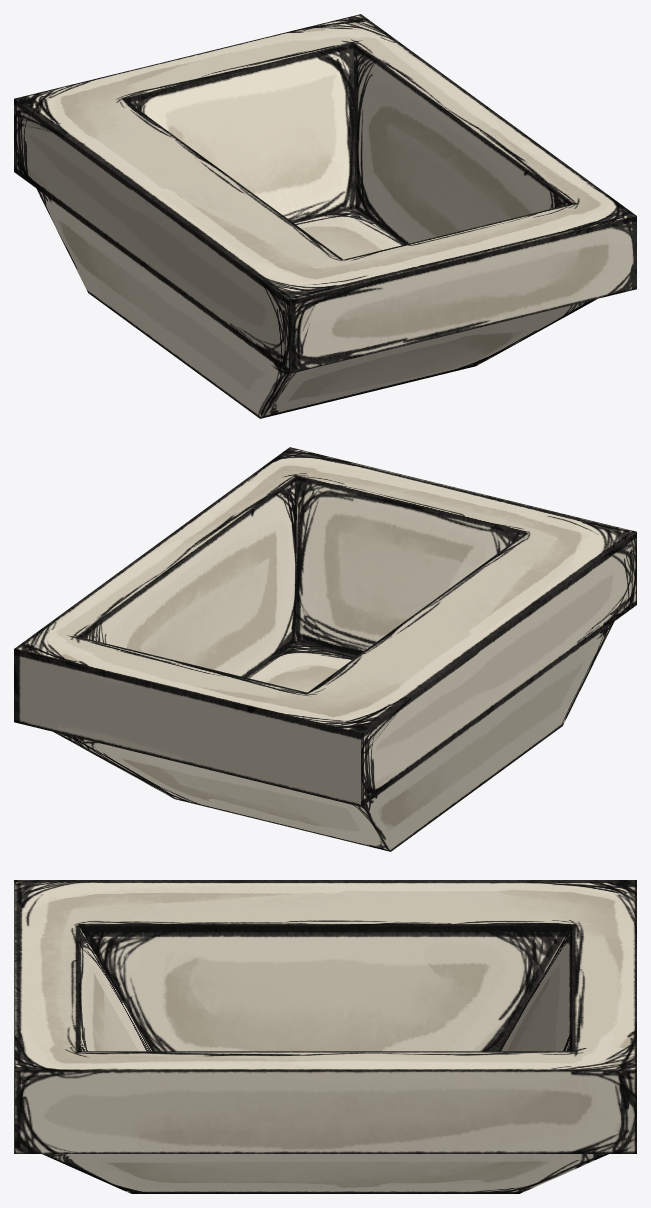
Rendered from sink_bathroom.fbx.
3 views of the same model, one above another, from view 1: azimuth 30°, elevation 25°; view 2: azimuth 150°, elevation 25°; view 3: azimuth 270°, elevation 25° (orthographic). The views are drawn at different scales.
Visible parts, largest first — view 1: rakovina; view 2: rakovina; view 3: rakovina.
Part boxes in pixels (bbox=[...]): rakovina: bbox=[14, 14, 636, 418]; rakovina: bbox=[14, 447, 636, 851]; rakovina: bbox=[14, 880, 636, 1193].
Size of the model in its own units: 0.6836 by 0.3042 by 0.941.
Materials: 1 (1 with a texture image).
